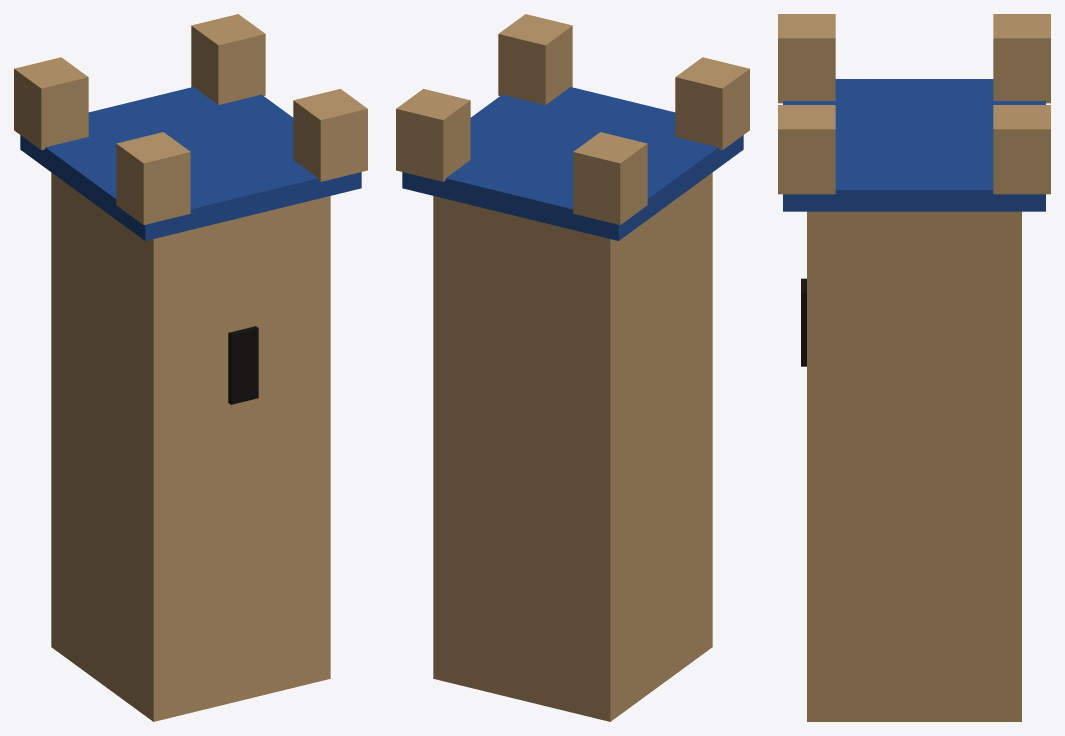
File: gnoll_tower.glb
3 views of the same model, side by side, from view 1: azimuth 30°, elevation 25°; view 2: azimuth 150°, elevation 25°; view 3: azimuth 270°, elevation 25° (orthographic). The views are drawn at different scales.
Parts seen in each view (by area): view 1: gnoll_tower; view 2: gnoll_tower; view 3: gnoll_tower.
Part boxes in pixels (x1=…): gnoll_tower: x1=14, y1=14, x2=367, y2=721; gnoll_tower: x1=396, y1=14, x2=749, y2=721; gnoll_tower: x1=778, y1=14, x2=1050, y2=721.
Bounding box in the file's own units: 1.14 × 2.79 × 1.14.
